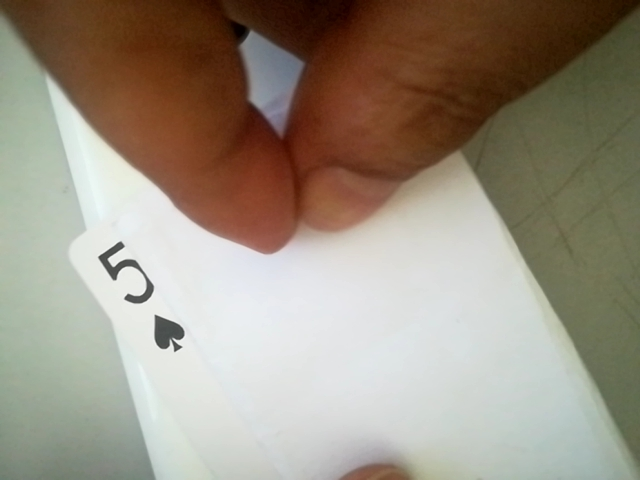ht 5: (84, 227, 198, 362)
